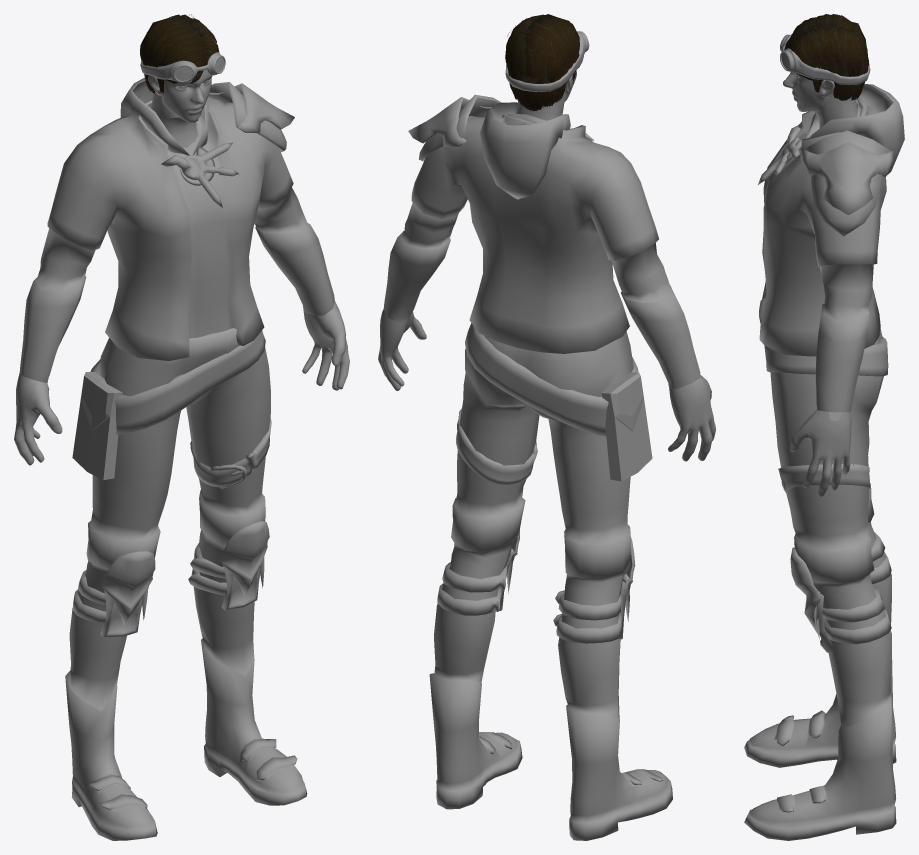
Rendered from man_0520.FBX.
3 renders of one model, left to right at view 1: azimuth 30°, elevation 25°; view 2: azimuth 150°, elevation 25°; view 3: azimuth 270°, elevation 25°, orthographic.
Visible parts, largest first — view 1: man, hend, hair, face; view 2: man, hair, hend, face; view 3: man, hair, hend, face.
Part boxes in pixels (box(x1,y1,x2,y2)): man: box(19, 52, 334, 840); hend: box(14, 301, 349, 465); hair: box(140, 14, 219, 93); face: box(148, 69, 212, 147); man: box(383, 31, 700, 840); hair: box(505, 14, 579, 111); hend: box(378, 309, 715, 461); face: box(516, 50, 576, 120); man: box(744, 34, 904, 840); hair: box(784, 14, 869, 100); hend: box(790, 410, 851, 496); face: box(783, 72, 857, 128).
Size of the model in its own units: 3.93 by 8.82 by 1.66.
